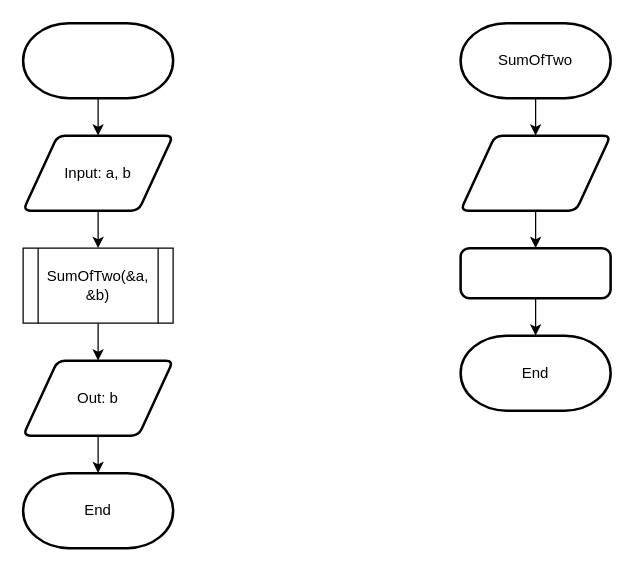
Image size: 633x570. Some labels were removed from this diagram. Each missing label, with the centre of its shape:
*b = (*a) * (*b): the point at 535,272
Input: &a, &b: the point at 535,172
Start: the point at 97,60
